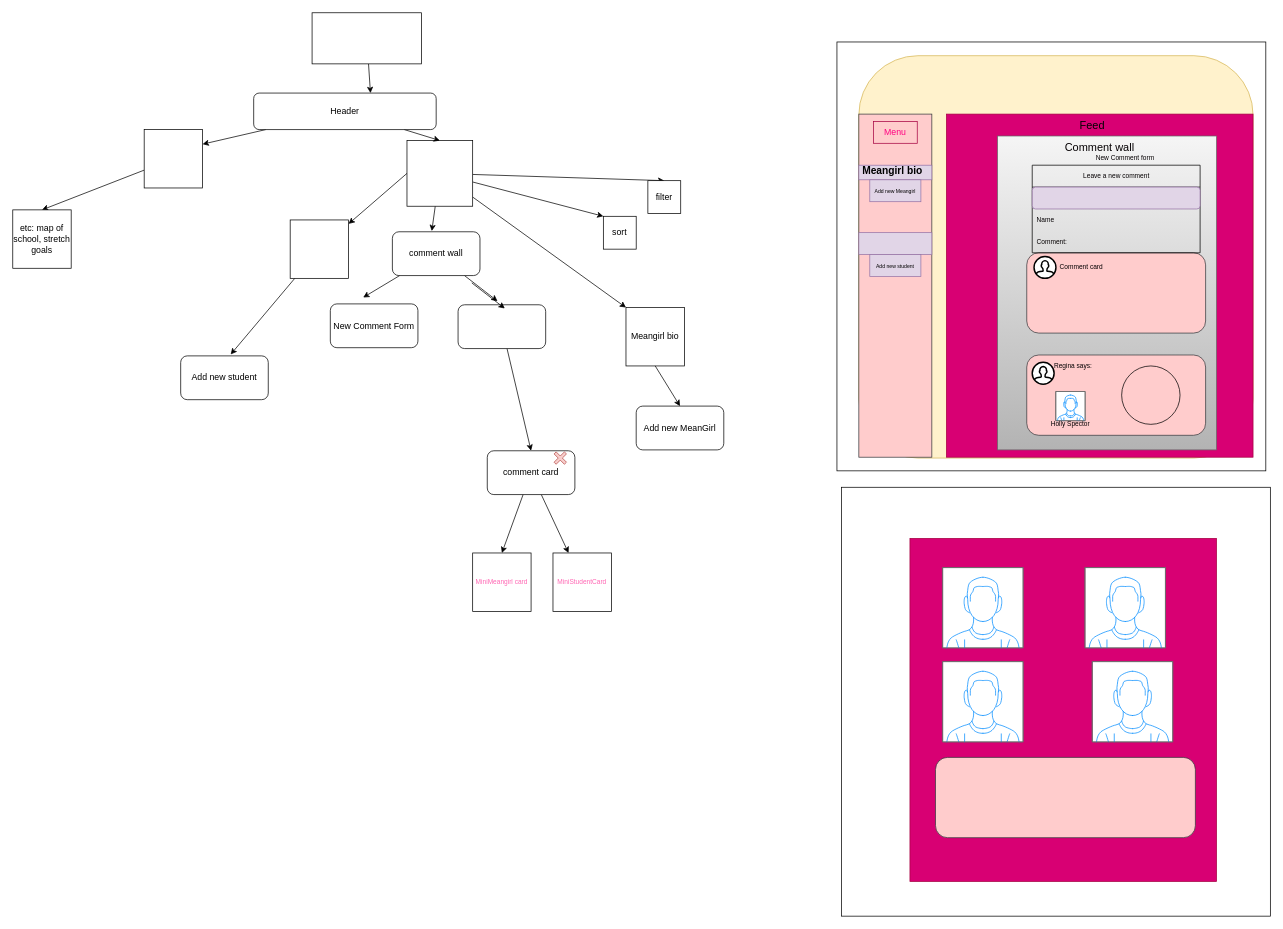
The diagram is 1283 pixels wide and 929 high, and some of its shapes have lost their labels. Here are the shapes that lost their labels. From the top down, the centre of each, then its label:
At [366,38]: "app".
At [173,158]: "side menu".
At [439,173]: "Feed (main)".
At [319,248]: "Student photo and name list".
At [895,243]: "Student list".
At [501,326]: "comment container".
